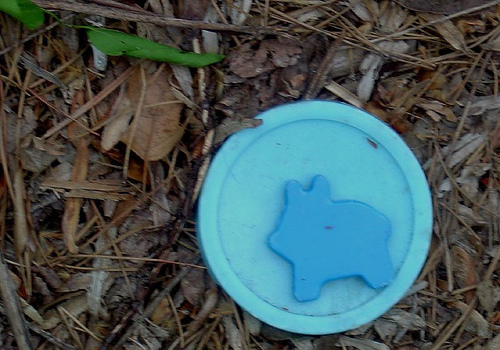litter: (196, 99, 433, 336)
